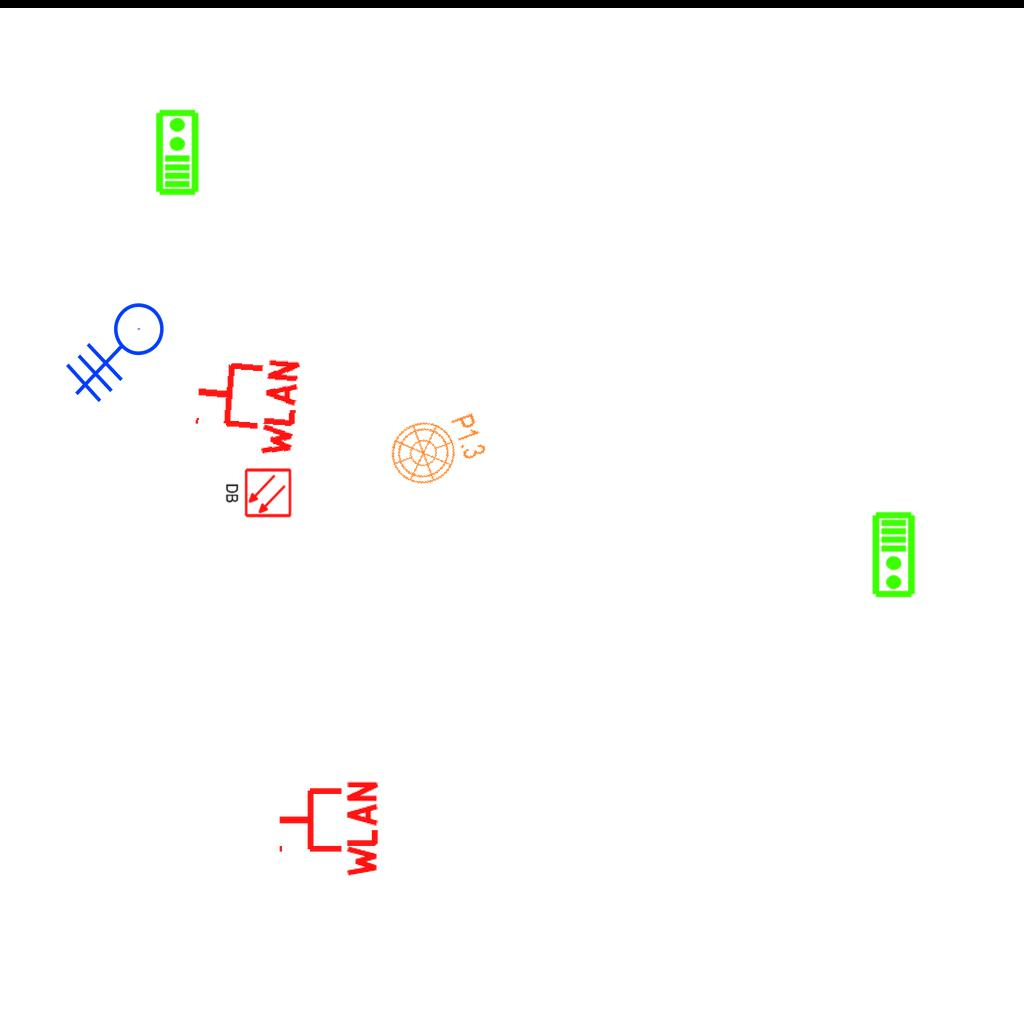Aufbaurundleuchte_LED_Treppenhaus: (381, 399, 501, 500)
DB_Melder_in_Doppelboden_mit_Revisionsoeffnung_mind_40_x_40_cm: (221, 465, 295, 522)
Elektroanschluss_allgemein_400V_Geraeteanschlussdose_400V: (65, 302, 181, 415)
Gegensprechanlage_mit_Video: (871, 511, 918, 599), (153, 108, 200, 196)
WLAN: (188, 348, 303, 462), (275, 777, 380, 881)
